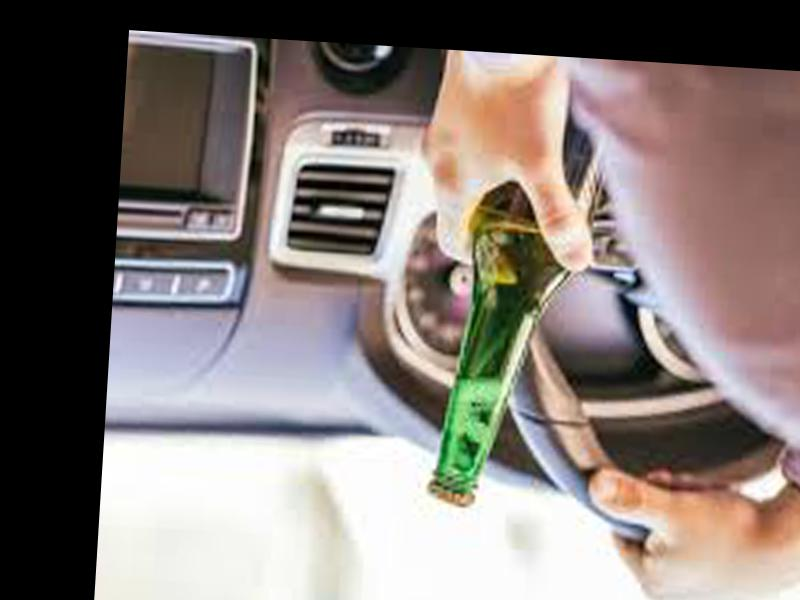Beer: (424, 69, 616, 517)
